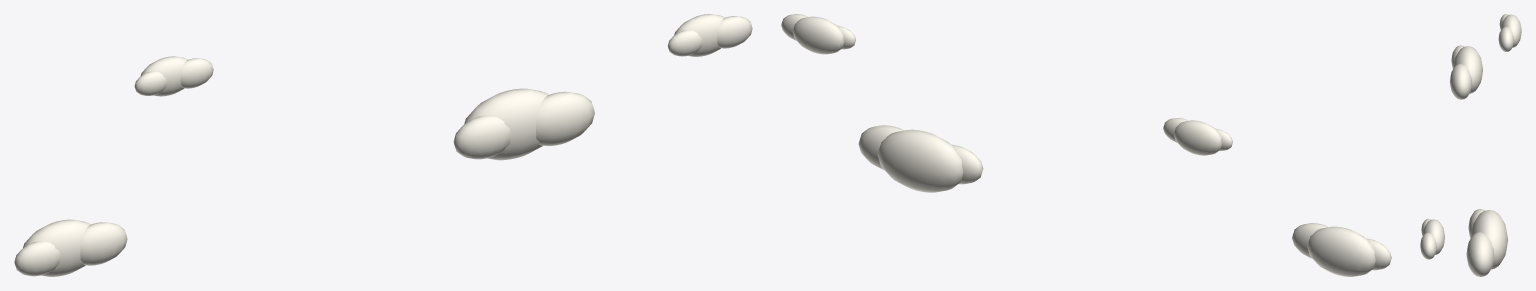
File: ArcadeCloudBank.fbx
The picture shows the model from 3 angles, left to right: view 1: azimuth 30°, elevation 25°; view 2: azimuth 150°, elevation 25°; view 3: azimuth 270°, elevation 25°; orthographic projection. The views are drawn at different scales.
Parts seen in each view (by area): view 1: ArcadeCloudBank; view 2: ArcadeCloudBank; view 3: ArcadeCloudBank.
Boxes of the visible parts, <box> form: ArcadeCloudBank: <box>14,14,752,276</box>; ArcadeCloudBank: <box>781,14,1391,276</box>; ArcadeCloudBank: <box>1420,14,1521,276</box>.
Bounding box in the file's own units: 19.08 × 4.3 × 3.14.
